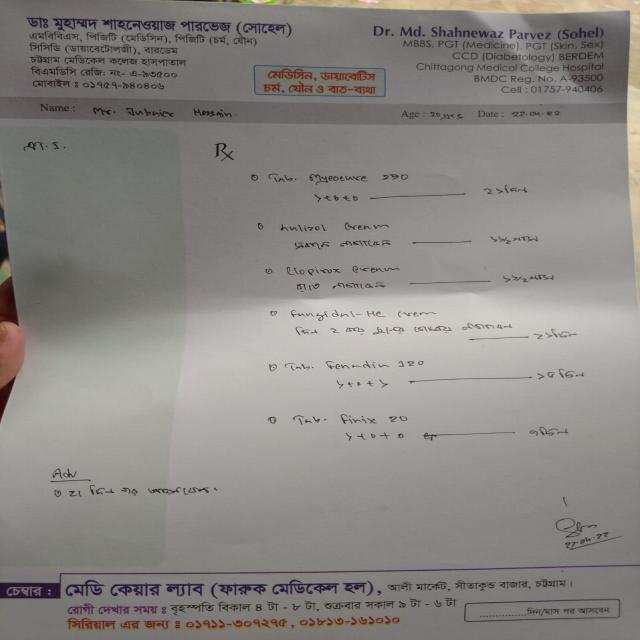Clopirox: (282, 262, 345, 279)
Fenadin: (319, 356, 394, 374)
Finix: (333, 408, 382, 429)
Fungidal HC: (283, 305, 392, 323)
Lulizol: (271, 219, 331, 236)
Mycocure: (305, 168, 377, 188)
